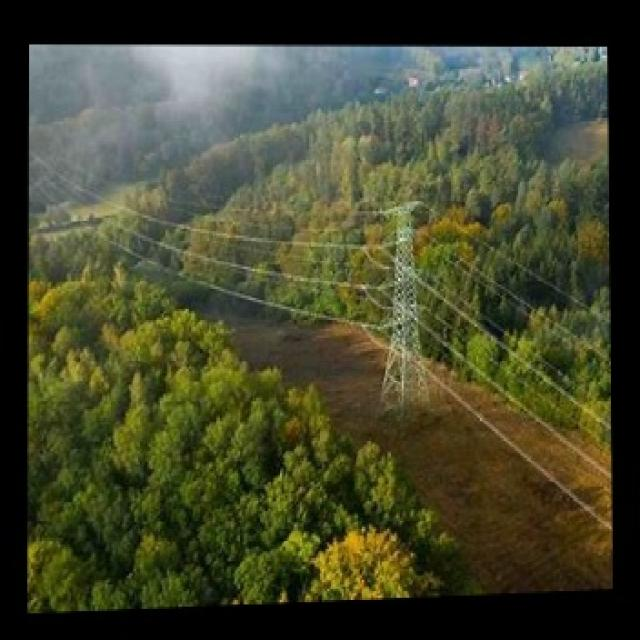utility poles: (360, 176, 450, 430)
